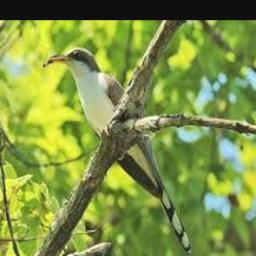Cuckoo: (47, 47, 191, 252)
